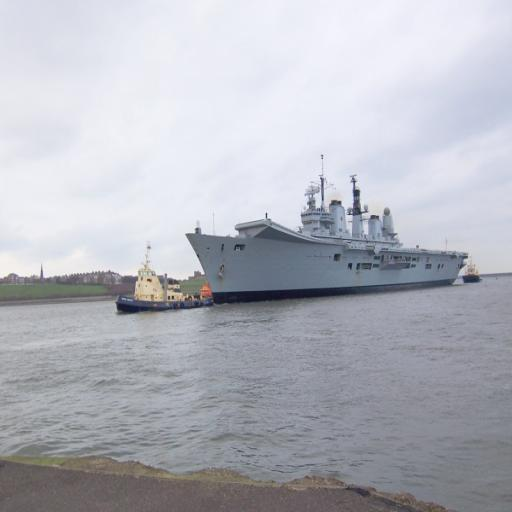Portanaves: (181, 142, 475, 312)
